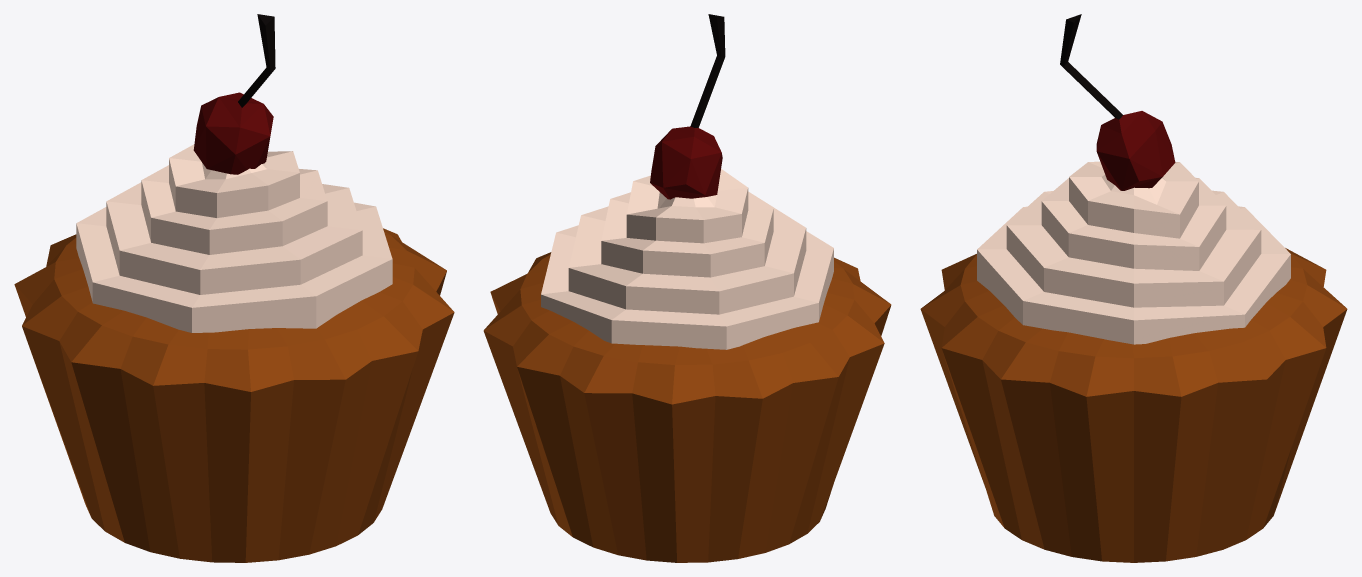
The model's file is Cupcake.FBX.
3 views of the same model, side by side, from view 1: azimuth 30°, elevation 25°; view 2: azimuth 150°, elevation 25°; view 3: azimuth 270°, elevation 25° (orthographic). The views are drawn at different scales.
Visible parts, largest first — view 1: Cylinder001, Cylinder002, GeoSphere001; view 2: Cylinder001, Cylinder002, GeoSphere001; view 3: Cylinder001, Cylinder002, GeoSphere001.
Boxes of the visible parts, x1,y1,x2,y2 form: Cylinder001: (14, 228, 454, 562); Cylinder002: (76, 144, 392, 332); GeoSphere001: (193, 14, 275, 174); Cylinder001: (483, 252, 891, 562); Cylinder002: (541, 169, 833, 349); GeoSphere001: (650, 14, 725, 199); Cylinder001: (920, 248, 1347, 562); Cylinder002: (977, 161, 1290, 344); GeoSphere001: (1060, 14, 1175, 190).
Bounding box in the file's own units: 77.99 × 101 × 80.
